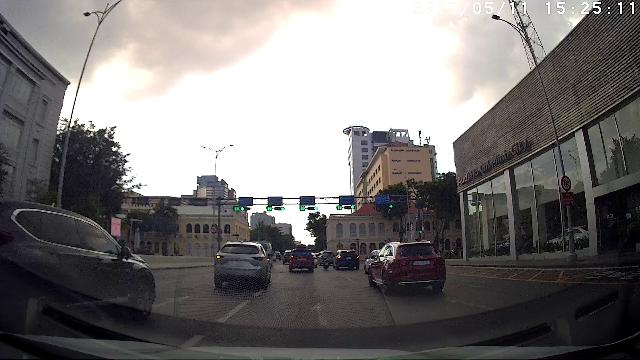124b-cam-oto-quay-dau-xe: (561, 175, 572, 192)
